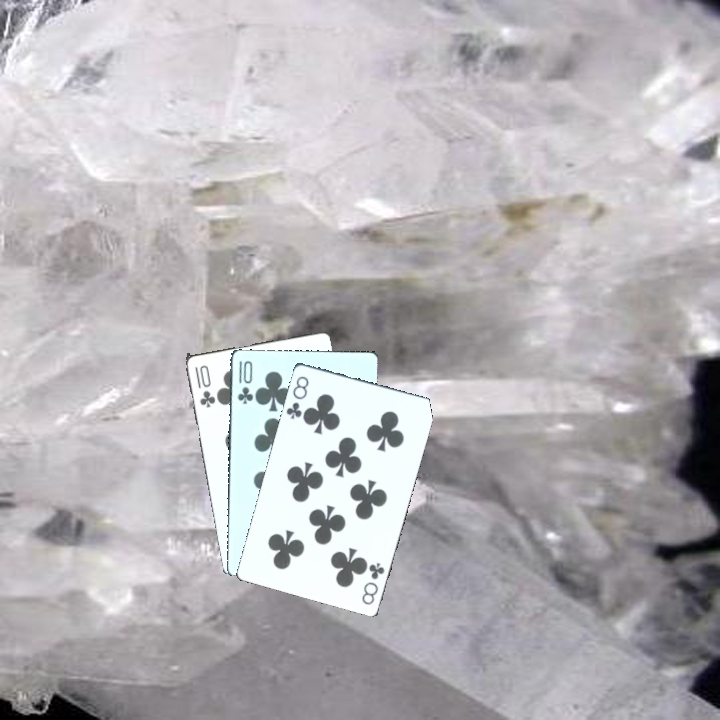10c: (191, 361, 218, 410), (233, 357, 256, 406)
8c: (283, 372, 311, 422), (358, 559, 387, 607)
